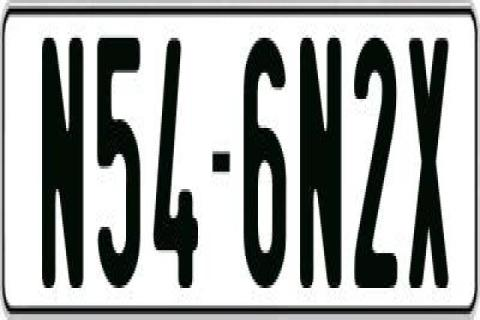0: (152, 29, 202, 297), (352, 32, 402, 300), (242, 38, 286, 297), (94, 35, 138, 285)
N: (298, 38, 344, 291), (38, 38, 80, 288)
X: (408, 38, 452, 302)
